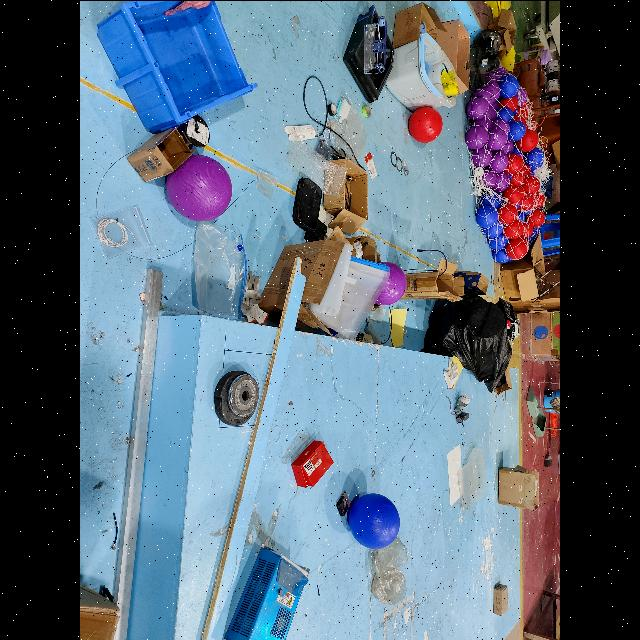B: (348, 492, 400, 548), (497, 73, 519, 97), (476, 206, 498, 227), (482, 218, 503, 236), (488, 230, 509, 248), (508, 120, 526, 140), (492, 244, 512, 262), (526, 146, 544, 164), (498, 106, 514, 124), (527, 153, 543, 169)
P: (167, 154, 233, 220), (364, 261, 408, 305), (486, 126, 508, 150), (466, 125, 488, 148), (466, 98, 488, 118), (490, 170, 510, 192), (488, 150, 508, 172), (474, 86, 494, 108), (472, 147, 492, 167), (492, 116, 510, 136), (478, 170, 497, 188), (482, 82, 501, 100), (496, 138, 514, 156)
R: (409, 106, 443, 142), (517, 129, 539, 151), (506, 238, 528, 258), (497, 202, 517, 224), (502, 152, 524, 172), (520, 174, 540, 196), (502, 184, 524, 203), (504, 218, 524, 238), (498, 94, 518, 112), (517, 192, 535, 210), (527, 208, 545, 226), (518, 220, 534, 236)
